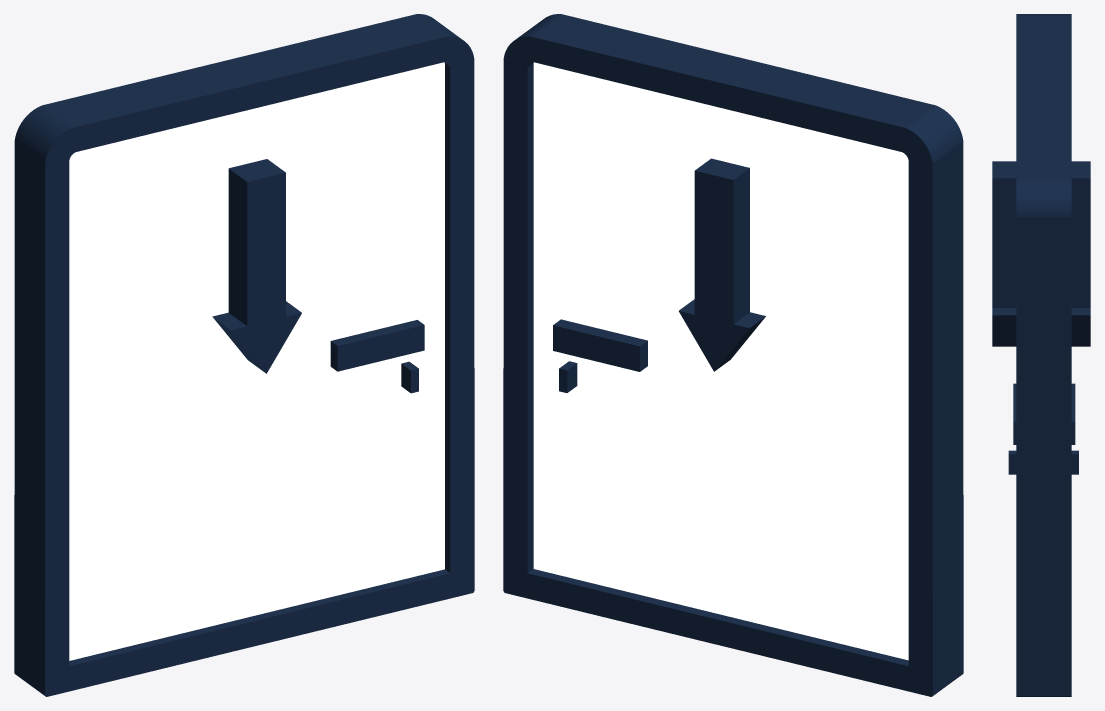
3 renders of one model, left to right at view 1: azimuth 30°, elevation 25°; view 2: azimuth 150°, elevation 25°; view 3: azimuth 270°, elevation 25°, orthographic. The views are drawn at different scales.
Visible parts, largest first — view 1: iconSpaceExitDoor; view 2: iconSpaceExitDoor; view 3: iconSpaceExitDoor.
Part boxes in pixels (x1,y1,x2,y2): iconSpaceExitDoor: (14, 14, 474, 696); iconSpaceExitDoor: (503, 14, 963, 696); iconSpaceExitDoor: (992, 14, 1090, 696).
Bounding box in the file's own units: 0.4013 × 0.5025 × 0.0885.
Materials: 2 (1 with a texture image).
